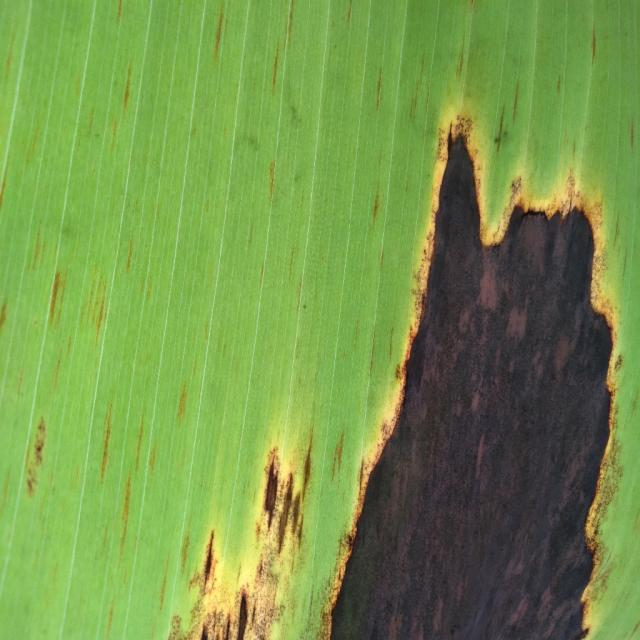Early_rust: (126, 97, 620, 640)
